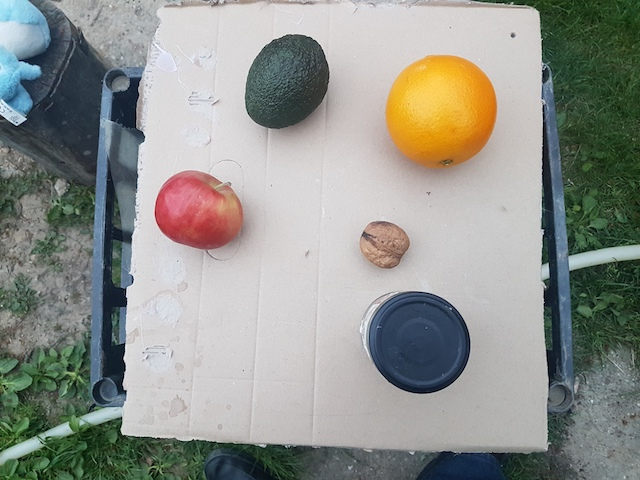apple: (152, 163, 248, 253)
avocado: (242, 32, 335, 130)
nut: (357, 217, 411, 270)
orange: (381, 52, 500, 168)
recipient: (366, 290, 472, 393)
